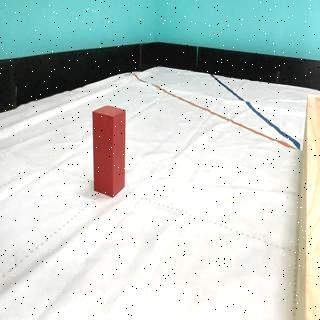redbox: (92, 104, 126, 198)
